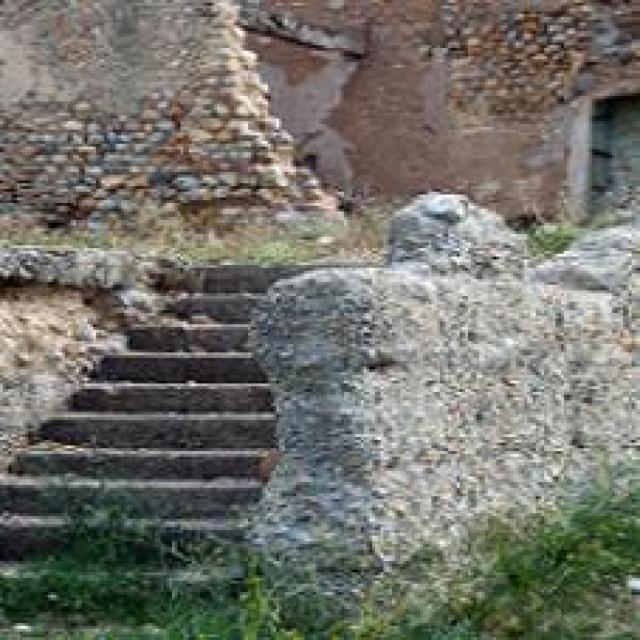upstair: (2, 265, 368, 538)
